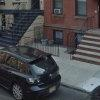Car: (4, 38, 65, 100)
